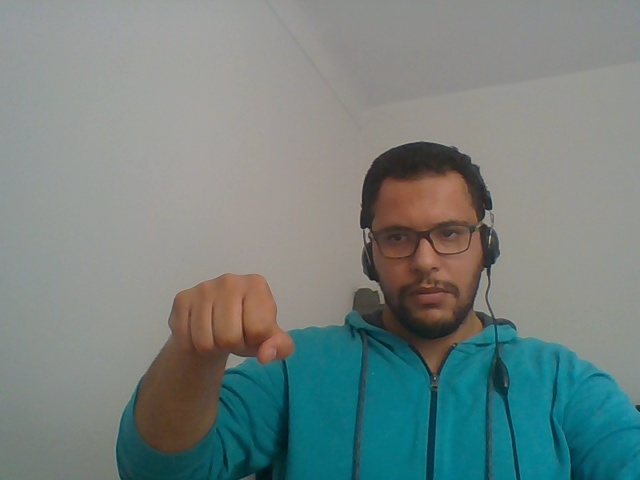yes: (146, 233, 310, 419)
